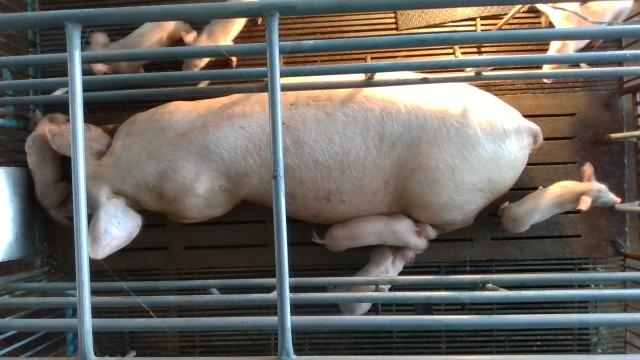piglet: (500, 162, 621, 233), (536, 3, 637, 84), (328, 248, 415, 316), (25, 109, 72, 226), (83, 21, 182, 74), (312, 214, 437, 253), (181, 18, 247, 70)
sow-sit: (44, 70, 543, 261)
